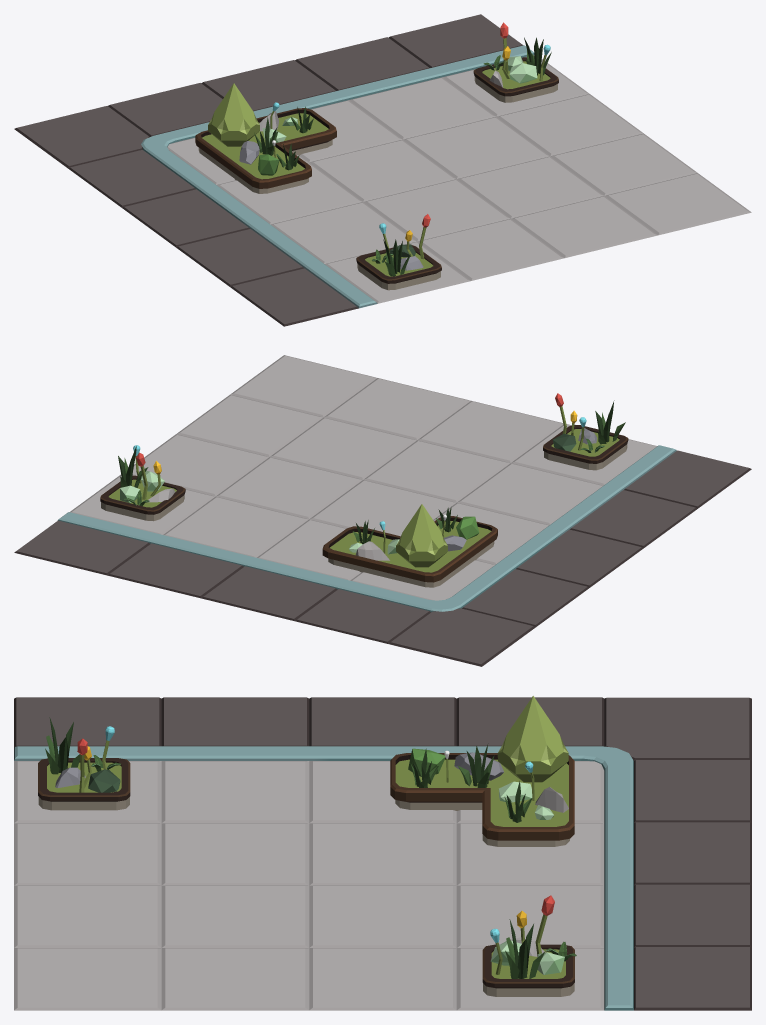
Rendered from OpenCorner_C.glb.
3 renders of one model, top to bottom at view 1: azimuth 30°, elevation 25°; view 2: azimuth 150°, elevation 25°; view 3: azimuth 270°, elevation 25°, orthographic. The views are drawn at different scales.
Visible parts, largest first — view 1: OpenCorner_C, Cube.295, Cone.141, Cube.292, Cube.293; view 2: OpenCorner_C, Cube.295, Cone.141, Cube.292, Cube.293; view 3: OpenCorner_C, Cube.295, Cone.141, Cube.292, Cube.293, Grass_03.667, Grass_03.666, Grass_03.673, Flower03.1823, Tree_03.1557, Tree_03.1551, Rock_010.010 (+1 smaller).
Boxes of the visible parts, x1,y1,x2,y2 form: OpenCorner_C: (14,14,751,326); Cube.295: (195,108,336,193); Cone.141: (208,83,259,146); Cube.292: (356,245,441,290); Cube.293: (473,57,558,102); OpenCorner_C: (14,355,751,666); Cube.295: (322,516,497,587); Cone.141: (396,504,447,567); Cube.292: (543,424,628,470); Cube.293: (100,475,185,521); OpenCorner_C: (14,697,751,1010); Cube.295: (390,753,574,846); Cone.141: (497,696,568,782); Cube.292: (38,758,130,810); Cube.293: (482,944,574,996); Grass_03.667: (505,919,545,978); Grass_03.666: (45,717,80,774); Grass_03.673: (458,743,494,787); Flower03.1823: (516,895,554,959); Tree_03.1557: (408,748,445,776); Tree_03.1551: (88,769,120,792); Rock_010.010: (454,752,503,780).
Size of what is drawn, in the model's own units: 16 by 2.33 by 16.
1 material, 1 textured.
